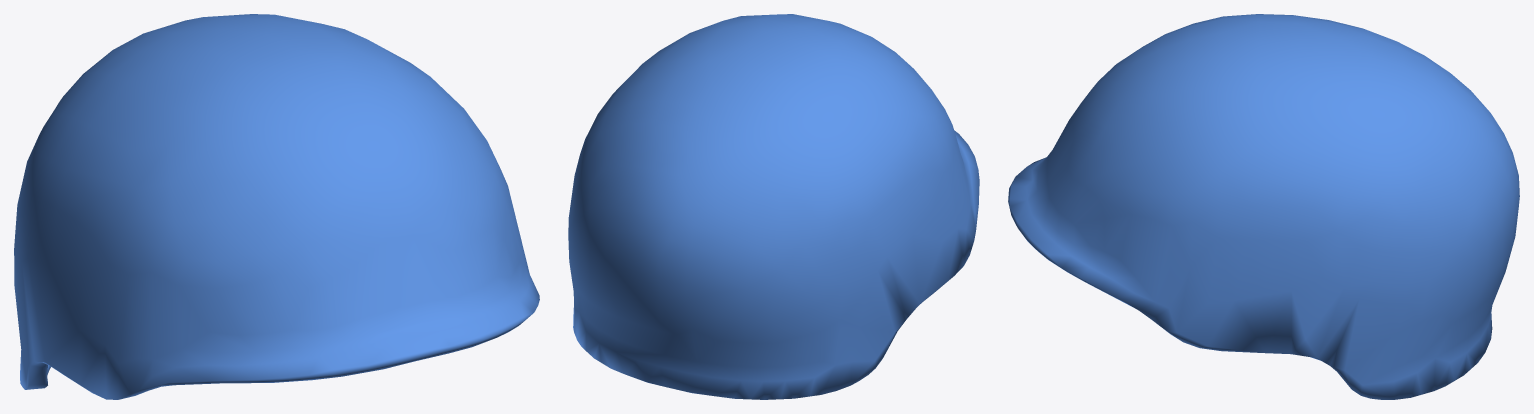
Rendered from kask.fbx.
The picture shows the model from 3 angles, left to right: view 1: azimuth 30°, elevation 25°; view 2: azimuth 150°, elevation 25°; view 3: azimuth 270°, elevation 25°; orthographic projection. The views are drawn at different scales.
Parts seen in each view (by area): view 1: kask; view 2: kask; view 3: kask.
Part boxes in pixels (bbox=[...]): kask: bbox=[14, 14, 539, 399]; kask: bbox=[568, 14, 979, 399]; kask: bbox=[1008, 14, 1519, 399].
Size of the model in its own units: 116 by 93.24 by 146.
